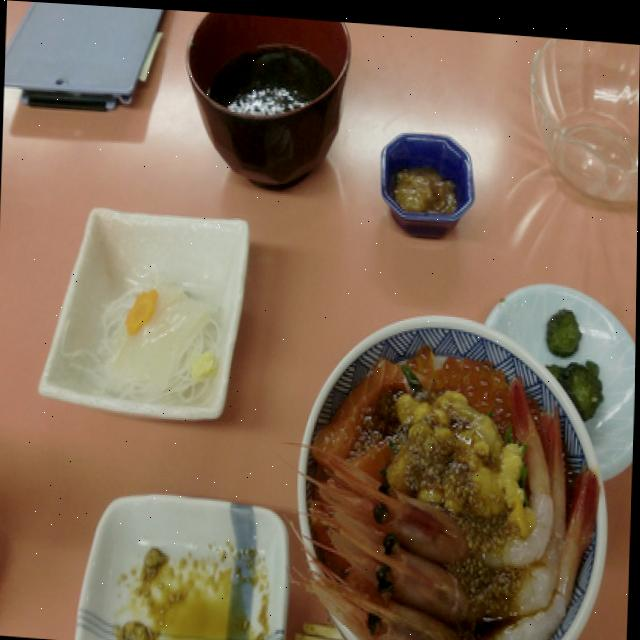刺身生食: (296, 290, 618, 640)
